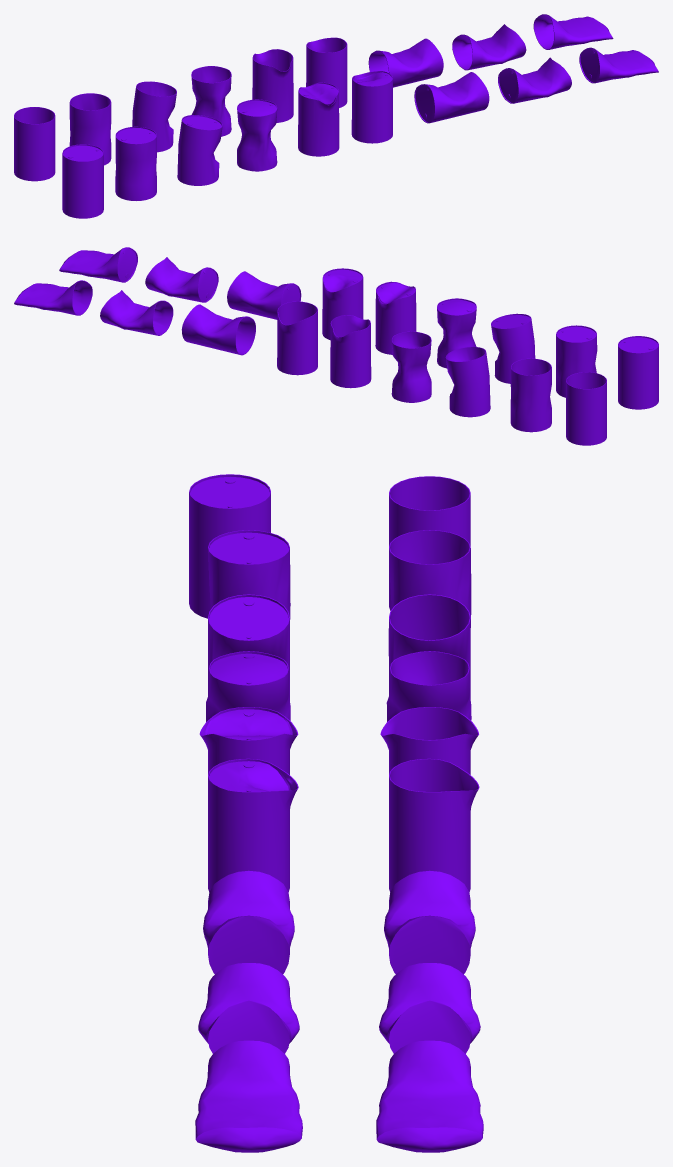
File: MetBarrel_meshes.FBX
3 views of the same model, one above another, from view 1: azimuth 30°, elevation 25°; view 2: azimuth 150°, elevation 25°; view 3: azimuth 270°, elevation 25° (orthographic). The views are drawn at different scales.
Parts seen in each view (by area): view 1: MetBarrel_clsd_reg_LOD0, MetBarrel_opnd_reg_LOD0, MetBarrel_clsd_creased_LOD0, MetBarrel_clsd_deform_C_LOD0, MetBarrel_clsd_deform_D_LOD0, MetBarrel_clsd_deform_A_LOD0, MetBarrel_clsd_smash_A_LOD0, MetBarrel_clsd_deform_B_LOD0, MetBarrel_opnd_deform_C_LOD0, MetBarrel_opnd_creased_LOD0, MetBarrel_opnd_smash_A_LOD0, MetBarrel_opnd_deform_A_LOD0 (+6 smaller); view 2: MetBarrel_opnd_creased_LOD0, MetBarrel_opnd_reg_LOD0, MetBarrel_clsd_reg_LOD0, MetBarrel_opnd_deform_D_LOD0, MetBarrel_opnd_deform_C_LOD0, MetBarrel_opnd_deform_A_LOD0, MetBarrel_opnd_deform_B_LOD0, MetBarrel_opnd_smash_A_LOD0, MetBarrel_clsd_deform_C_LOD0, MetBarrel_clsd_smash_A_LOD0, MetBarrel_clsd_deform_D_LOD0, MetBarrel_clsd_deform_A_LOD0 (+6 smaller); view 3: MetBarrel_opnd_smash_C_LOD0, MetBarrel_clsd_smash_C_LOD0, MetBarrel_clsd_deform_D_LOD0, MetBarrel_opnd_deform_D_LOD0, MetBarrel_opnd_smash_A_LOD0, MetBarrel_clsd_smash_A_LOD0, MetBarrel_clsd_smash_B_LOD0, MetBarrel_opnd_smash_B_LOD0, MetBarrel_clsd_reg_LOD0, MetBarrel_opnd_creased_LOD0, MetBarrel_clsd_creased_LOD0, MetBarrel_opnd_deform_A_LOD0 (+6 smaller).
Part boxes in pixels (x1,y1,x2,y2): MetBarrel_clsd_reg_LOD0: (62, 144, 103, 218); MetBarrel_opnd_reg_LOD0: (14, 107, 55, 181); MetBarrel_clsd_creased_LOD0: (115, 126, 156, 200); MetBarrel_clsd_deform_C_LOD0: (298, 82, 339, 156); MetBarrel_clsd_deform_D_LOD0: (351, 71, 392, 143); MetBarrel_clsd_deform_A_LOD0: (177, 115, 222, 185); MetBarrel_clsd_smash_A_LOD0: (414, 72, 489, 123); MetBarrel_clsd_deform_B_LOD0: (237, 99, 277, 171); MetBarrel_opnd_deform_C_LOD0: (252, 49, 293, 122); MetBarrel_opnd_creased_LOD0: (69, 93, 111, 165); MetBarrel_opnd_smash_A_LOD0: (368, 38, 443, 87); MetBarrel_opnd_deform_A_LOD0: (132, 81, 176, 152); MetBarrel_opnd_creased_LOD0: (510, 358, 551, 432); MetBarrel_opnd_reg_LOD0: (566, 372, 606, 445); MetBarrel_clsd_reg_LOD0: (618, 336, 658, 409); MetBarrel_opnd_deform_D_LOD0: (277, 301, 317, 375); MetBarrel_opnd_deform_C_LOD0: (330, 315, 371, 388); MetBarrel_opnd_deform_A_LOD0: (445, 347, 490, 417); MetBarrel_opnd_deform_B_LOD0: (391, 331, 431, 402); MetBarrel_opnd_smash_A_LOD0: (181, 304, 255, 355); MetBarrel_clsd_deform_C_LOD0: (375, 281, 416, 354); MetBarrel_clsd_smash_A_LOD0: (227, 271, 301, 319); MetBarrel_clsd_deform_D_LOD0: (322, 268, 363, 340); MetBarrel_clsd_deform_A_LOD0: (491, 313, 535, 383); MetBarrel_opnd_smash_C_LOD0: (376, 1040, 483, 1152); MetBarrel_clsd_smash_C_LOD0: (195, 1040, 302, 1152); MetBarrel_clsd_deform_D_LOD0: (208, 758, 298, 892); MetBarrel_opnd_deform_D_LOD0: (389, 758, 479, 892); MetBarrel_opnd_smash_A_LOD0: (384, 870, 475, 974); MetBarrel_clsd_smash_A_LOD0: (203, 870, 294, 974); MetBarrel_clsd_smash_B_LOD0: (198, 963, 299, 1053); MetBarrel_opnd_smash_B_LOD0: (379, 963, 480, 1053); MetBarrel_clsd_reg_LOD0: (189, 474, 270, 618); MetBarrel_opnd_creased_LOD0: (388, 530, 471, 655); MetBarrel_clsd_creased_LOD0: (208, 530, 290, 619); MetBarrel_opnd_deform_A_LOD0: (389, 594, 470, 698).
Size of what is drawn, in the model's own units: 955 by 88.13 by 208.
